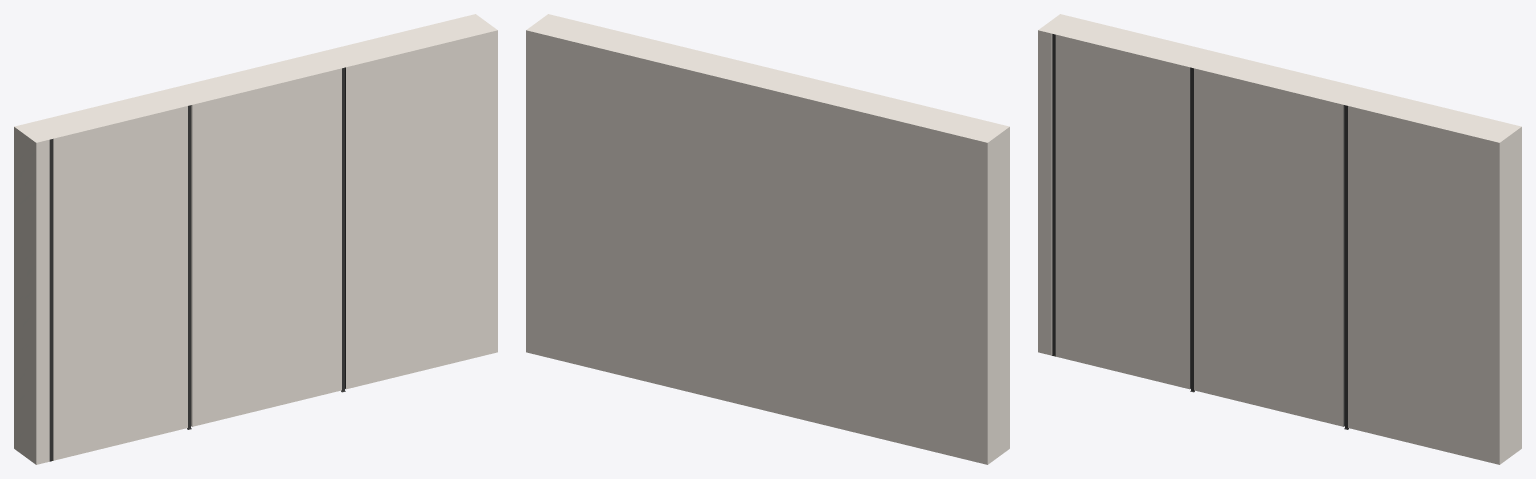
File: Wall.fbx
3 views of the same model, side by side, from view 1: azimuth 30°, elevation 25°; view 2: azimuth 150°, elevation 25°; view 3: azimuth 330°, elevation 25° (orthographic).
Visible parts, largest first — view 1: Wall; view 2: Wall; view 3: Wall.
Boxes of the visible parts, left/top/right/bottom form: Wall: left=14, top=14, right=497, bottom=464; Wall: left=526, top=14, right=1009, bottom=464; Wall: left=1038, top=14, right=1521, bottom=464.
Size of the model in its own units: 720 by 60.17 by 483.
